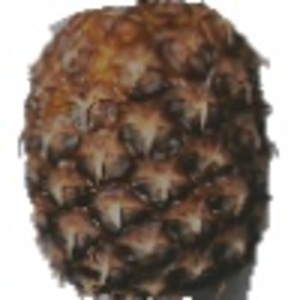abacaxi: (20, 2, 274, 297)
